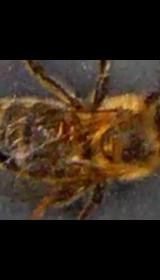varroa_mite: (54, 111, 94, 153)
